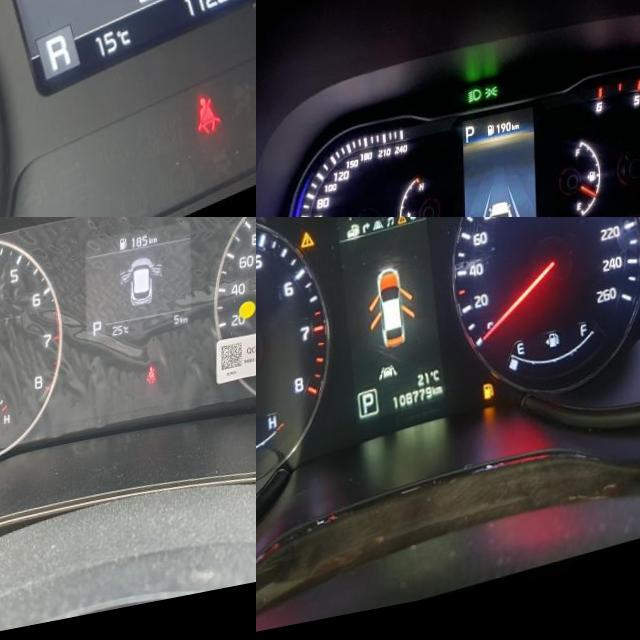Central Warning lamp: (298, 236, 312, 257)
Low beam: (466, 99, 480, 115)
Low fuel level: (480, 396, 491, 416)
SideLamp: (483, 97, 496, 110)
